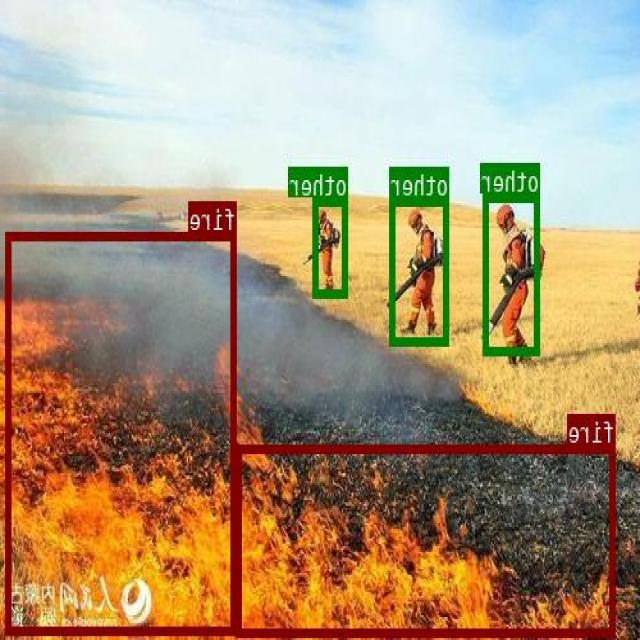fire: (7, 231, 237, 634), (238, 443, 616, 635)
other: (485, 192, 541, 353), (391, 196, 450, 344), (314, 196, 348, 296)
